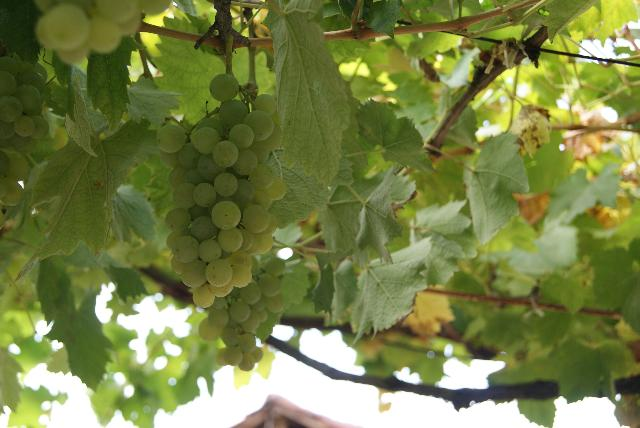grapes: (156, 74, 286, 308), (199, 258, 285, 371)
